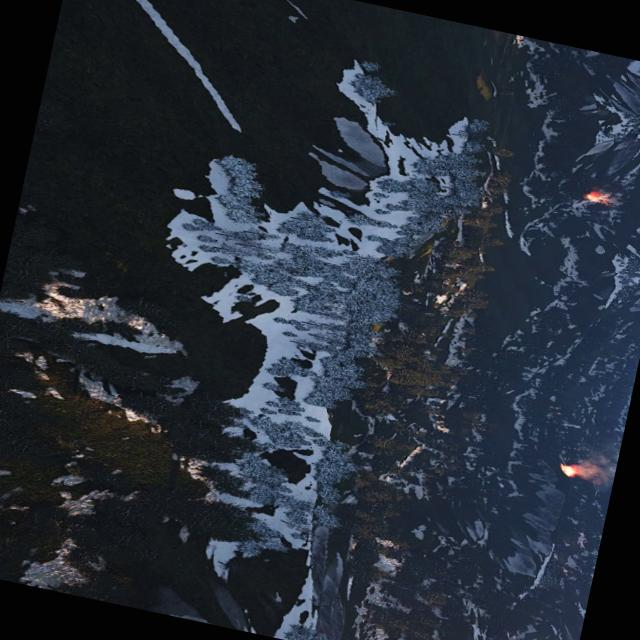fire: (583, 188, 609, 206), (558, 464, 578, 479)
smoke: (576, 439, 620, 492)
